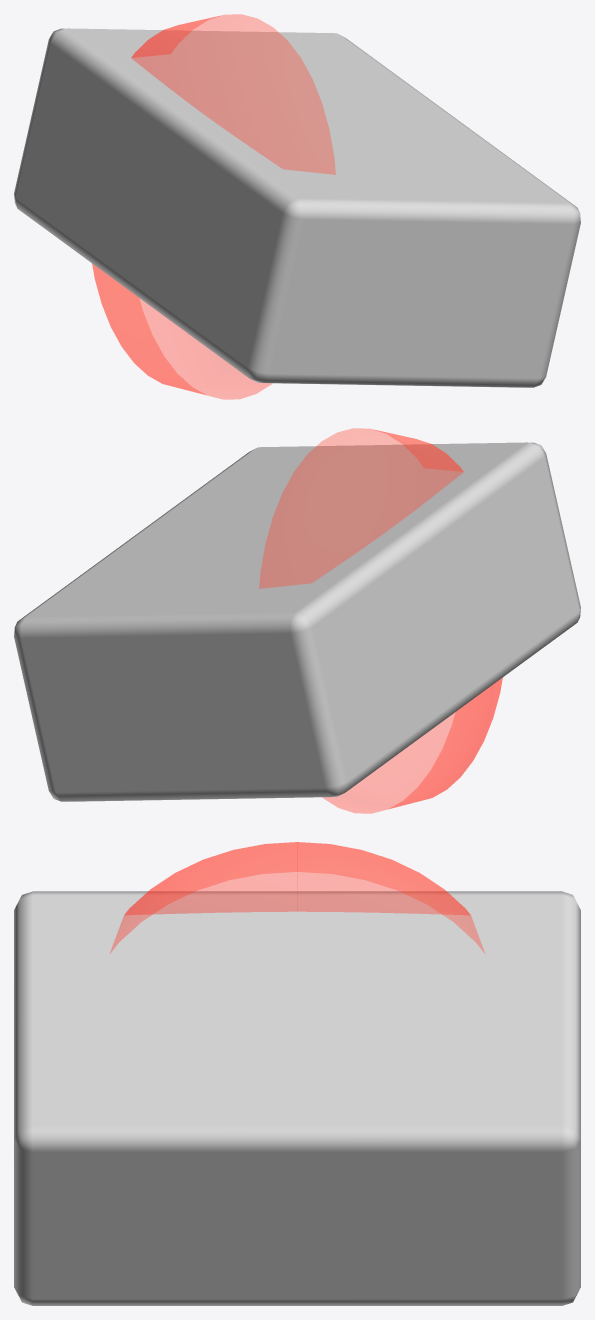
Rendered from bike_classic_4t__tail_light.glb.
3 renders of one model, top to bottom at view 1: azimuth 30°, elevation 25°; view 2: azimuth 150°, elevation 25°; view 3: azimuth 270°, elevation 25°, orthographic. The views are drawn at different scales.
Visible parts, largest first — view 1: electrical__tail_light, electrical__tail_light__lens; view 2: electrical__tail_light, electrical__tail_light__lens; view 3: electrical__tail_light, electrical__tail_light__lens.
Boxes of the visible parts, box(x1,y1,x2,y2) form: electrical__tail_light: box(14, 28, 580, 387); electrical__tail_light__lens: box(92, 14, 335, 399); electrical__tail_light: box(14, 442, 580, 801); electrical__tail_light__lens: box(259, 428, 502, 813); electrical__tail_light: box(14, 891, 580, 1305); electrical__tail_light__lens: box(110, 842, 484, 953).
Size of the model in its own units: 6.94 by 6.84 by 9.
